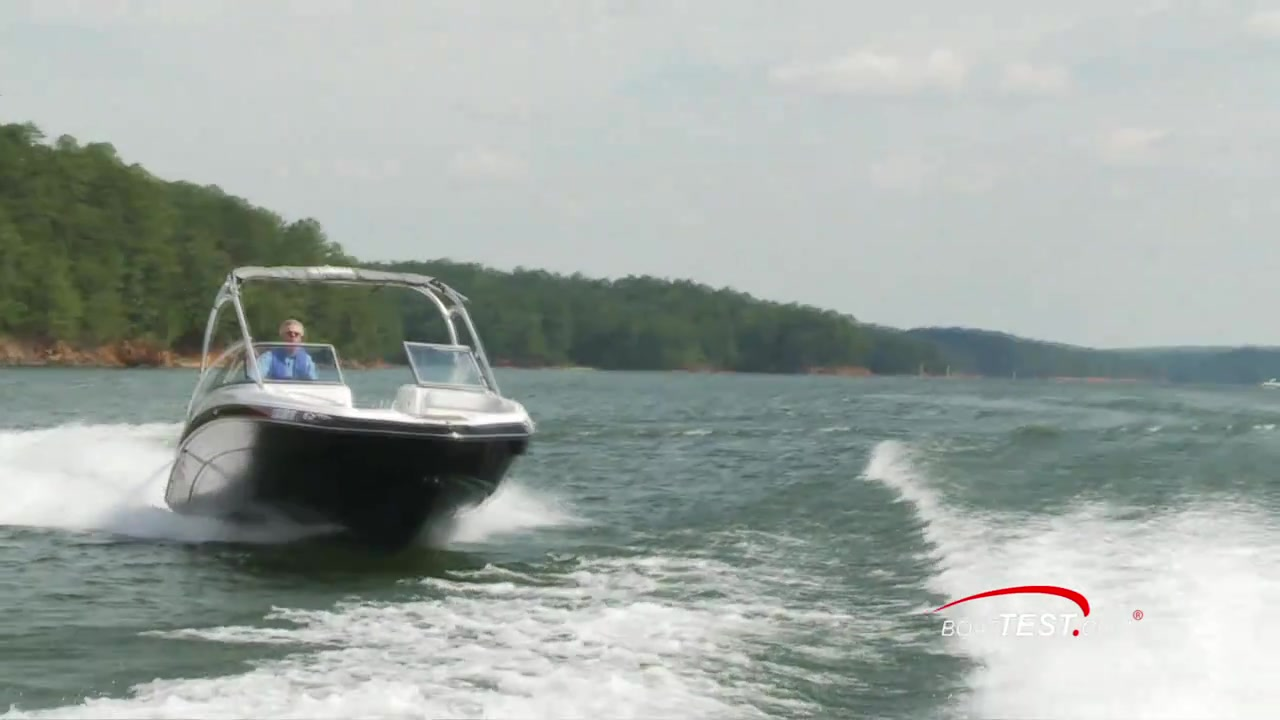boat: (163, 263, 531, 544)
